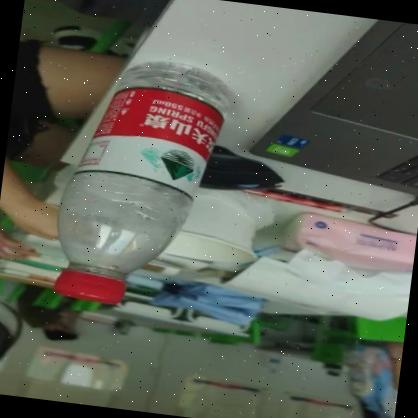bottle: (48, 45, 236, 316)
cap: (52, 263, 128, 306)
label: (71, 80, 224, 204)
